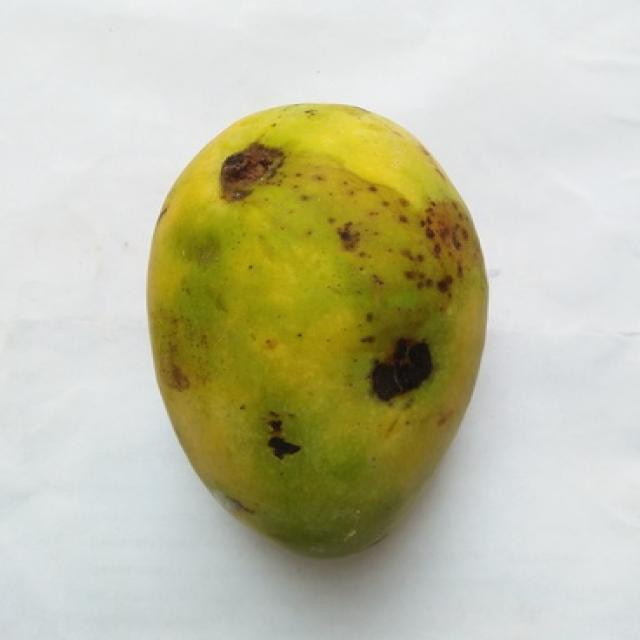Mango: (148, 104, 482, 554)
